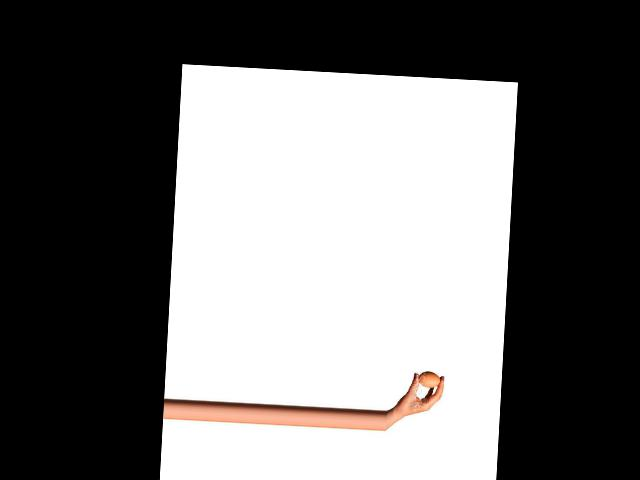egg: (417, 372, 440, 388)
